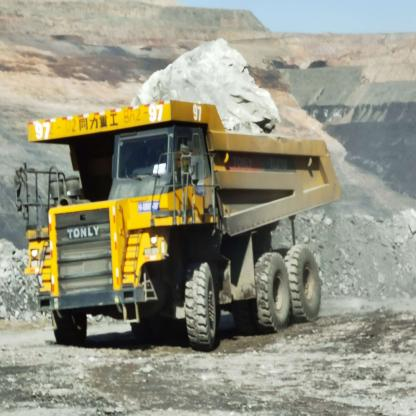dump_truck: (17, 89, 348, 361)
